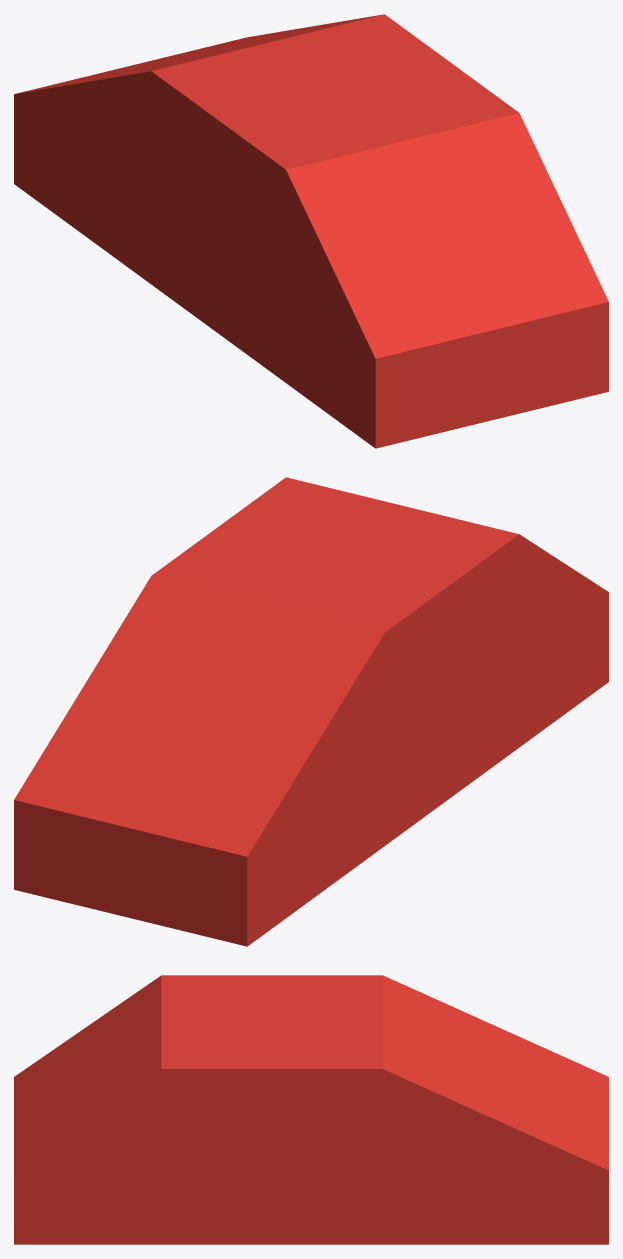
Rendered from Car.fbx.
3 renders of one model, top to bottom at view 1: azimuth 30°, elevation 25°; view 2: azimuth 150°, elevation 25°; view 3: azimuth 270°, elevation 25°, orthographic. The views are drawn at different scales.
Visible parts, largest first — view 1: Cube; view 2: Cube; view 3: Cube.
Boxes of the visible parts, x1,y1,x2,y2 form: Cube: (14,14,608,448); Cube: (14,477,608,946); Cube: (14,975,608,1244).
Bounding box in the file's own units: 200 × 175 × 537.
